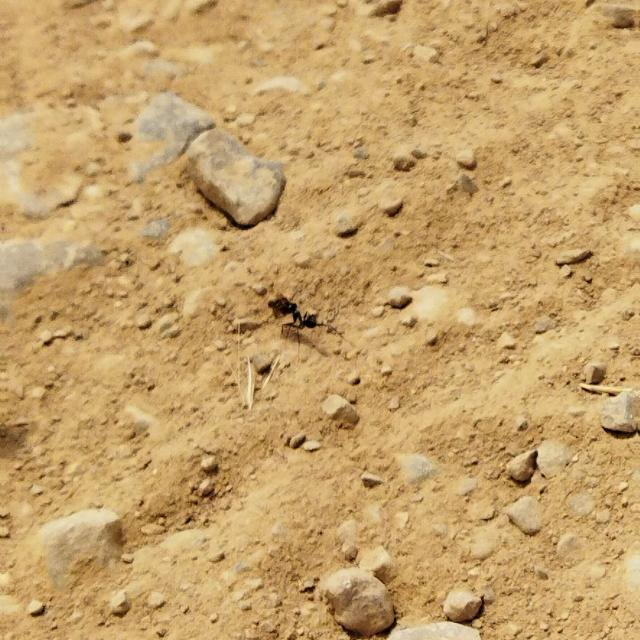Cataglyphis: (268, 289, 322, 335)
